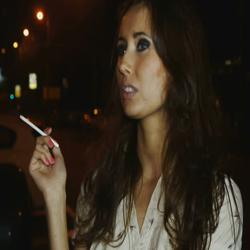smoking: (18, 113, 67, 191)
